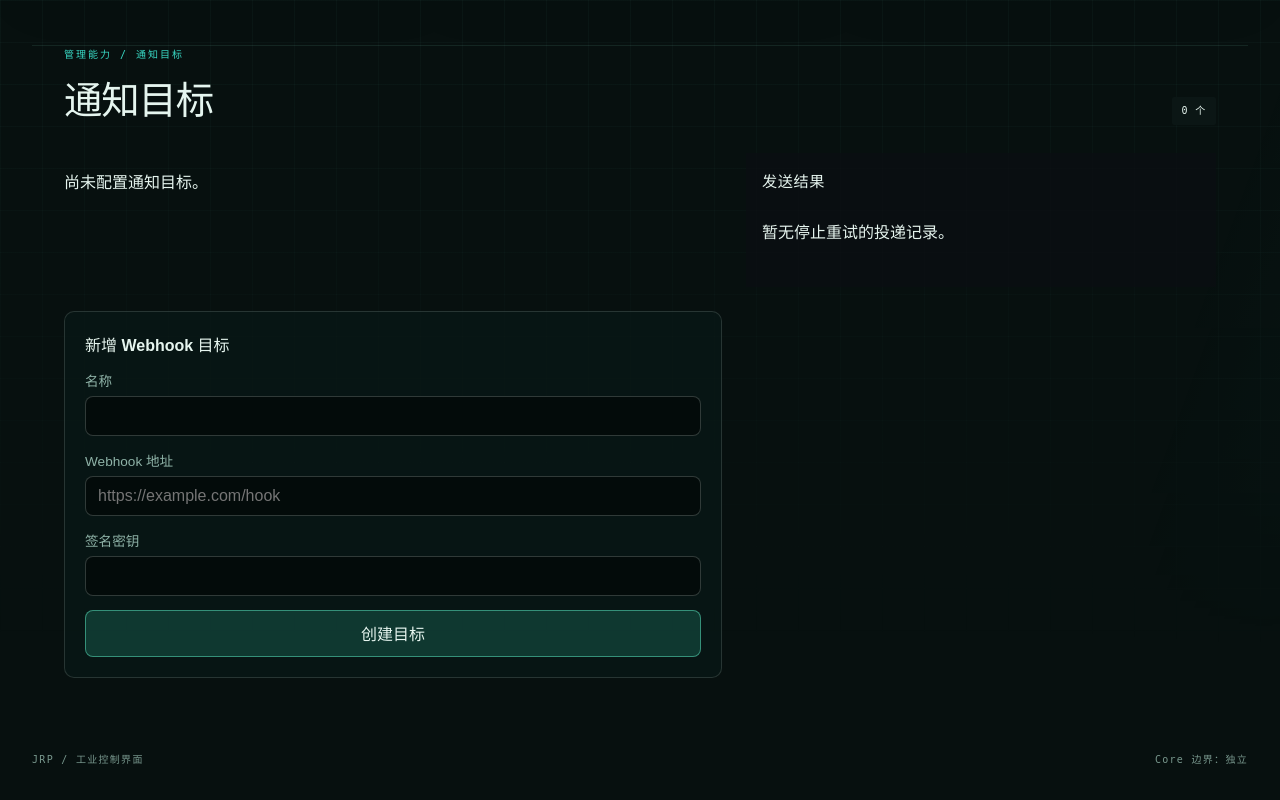
Test case: 通知目标管理 › CSRF 校验失败时展示服务端中文说明
The image size is (1280, 800).
(page scrolled)
Expected: the heading "通知目标" is shown, [64, 69, 213, 125]
Type "验收目标" into the field labelled "名称".
click(393, 416); type("验收目标")  # box [85, 396, 701, 436]
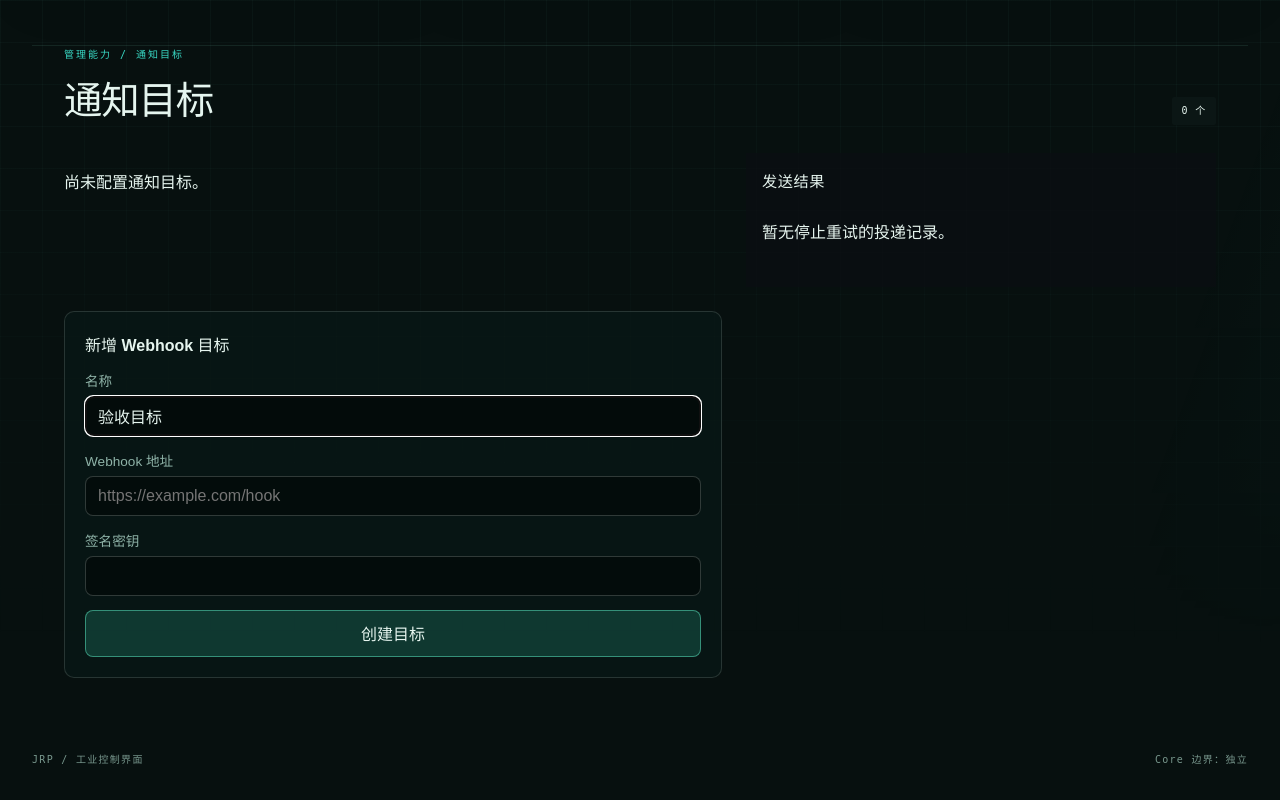
Type "https://hooks.example.com/hook" into the field labelled "Webhook 地址".
click(393, 496); type("https://hooks.example.com/hook")  # box [85, 476, 701, 516]
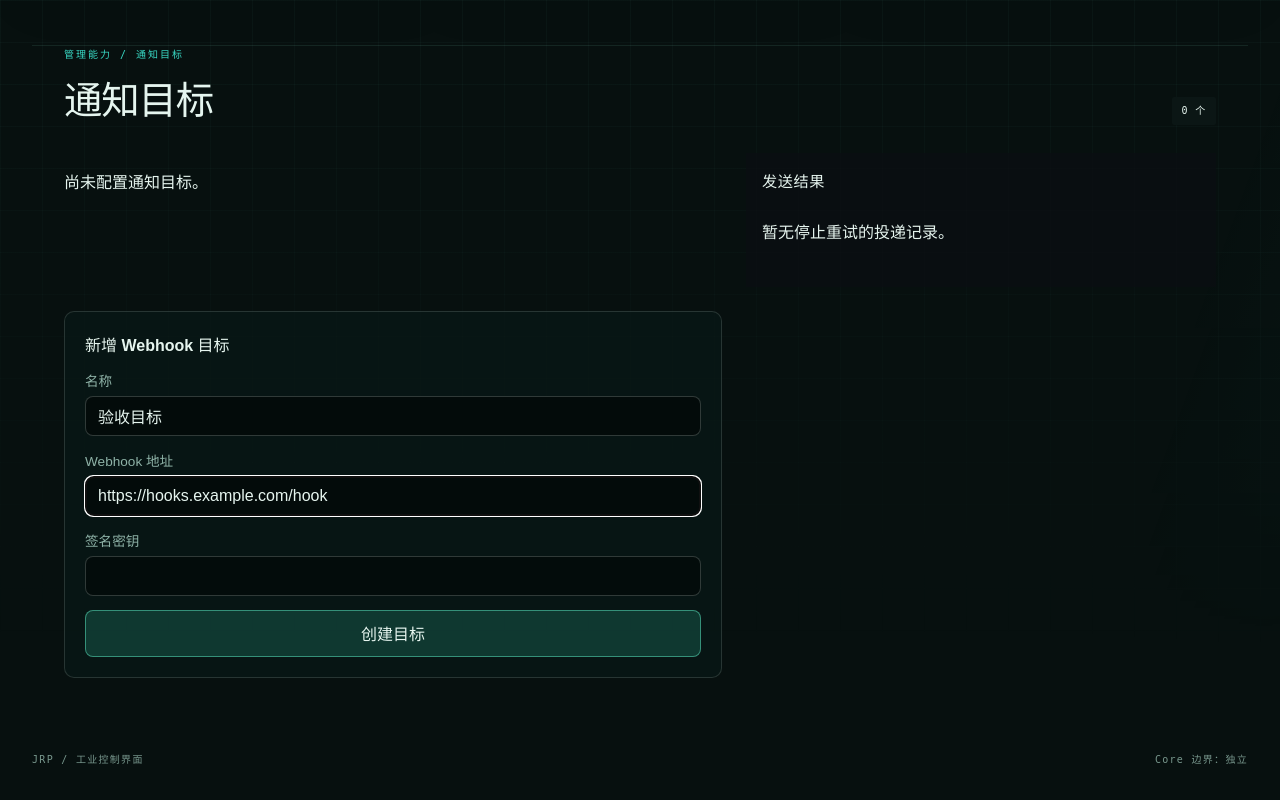
Click the button "创建目标".
click(393, 633)  # box [85, 610, 701, 657]
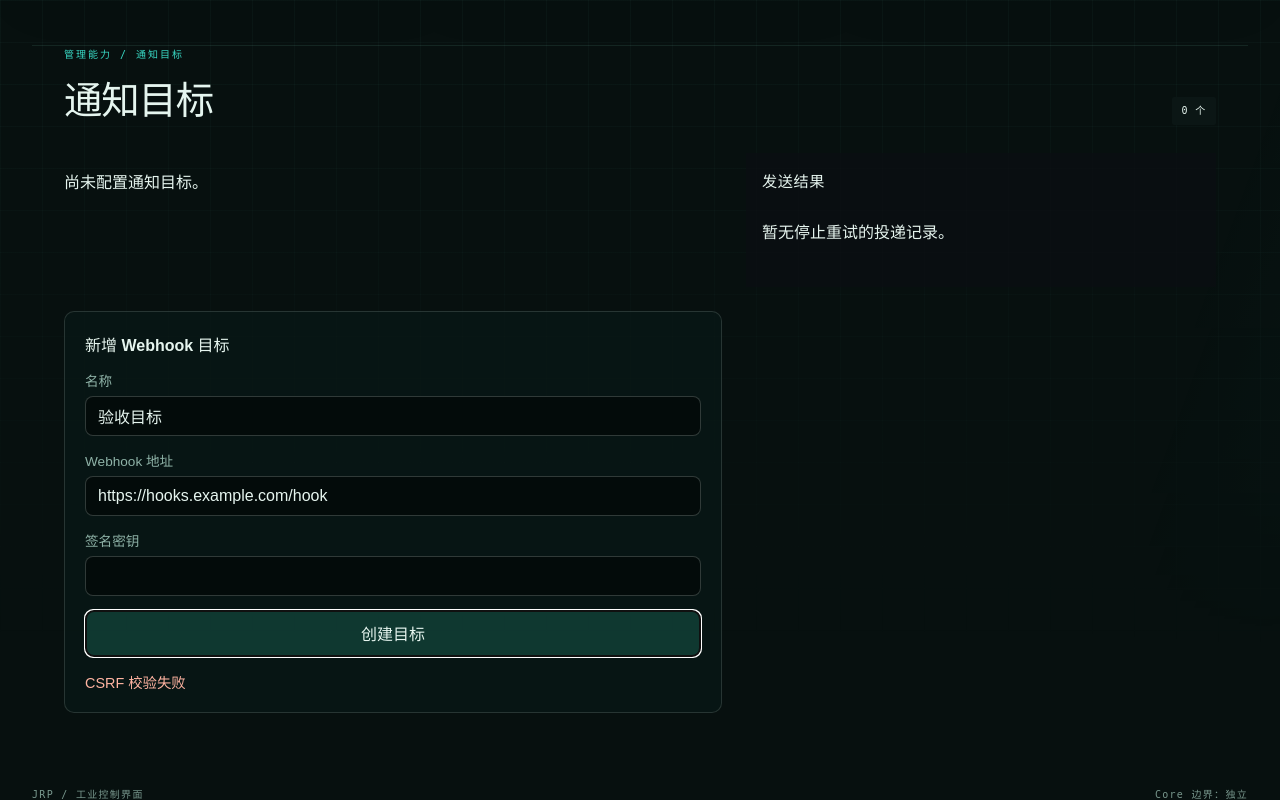
Now the message reads "CSRF 校验失败", box [85, 675, 186, 691]
